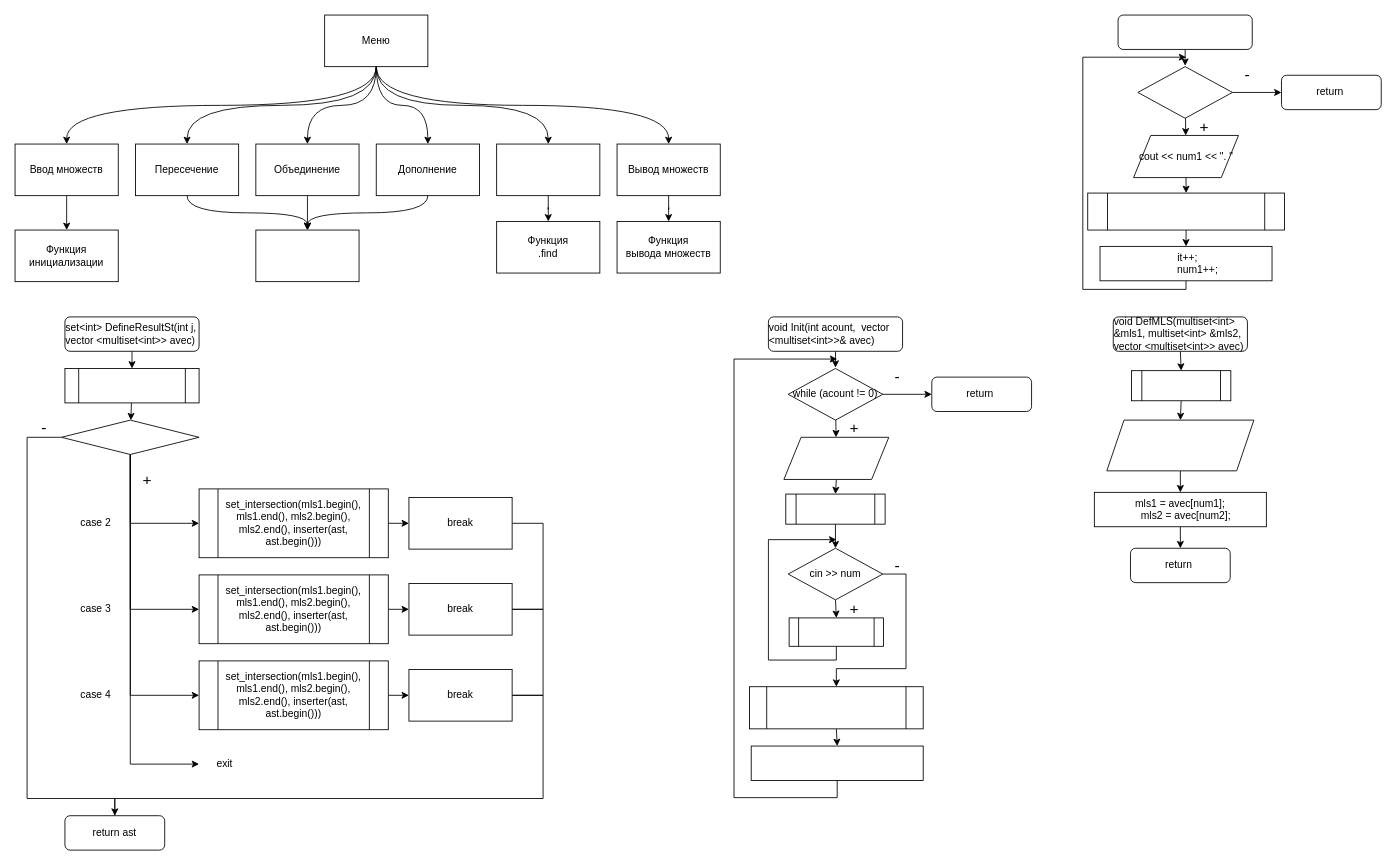
Some shapes in this 1397 by 865 pixel diagram are drawn without their labels. Here are the shapes that lost their labels. From the top down, the centre of each, then its label:
[1184,31]: void Print(vector <multiset<int>> avec)
[1184,92]: (it != avec.end())
[548,169]: Проверка вхождения элемента во множество
[1185,211]: copy((*it).begin(), (*it).end(), ostream_iterator<int>(cout, " "))
[307,255]: Функция выбора функции
[131,385]: DefMLS(mls1, mls2, avec)
[1181,385]: Print(avec)
[130,437]: switch (j)
[836,457]: puts("Введите множество: ")
[1180,445]: cout << "Выберите 2 множества: "; scanf("%d %d", &num1, &num2)
[835,508]: cin.clear()
[836,631]: mls.insert(num)
[836,707]: avec.insert(avec.end(), mls); mls.clear()
[836,762]: acount--
